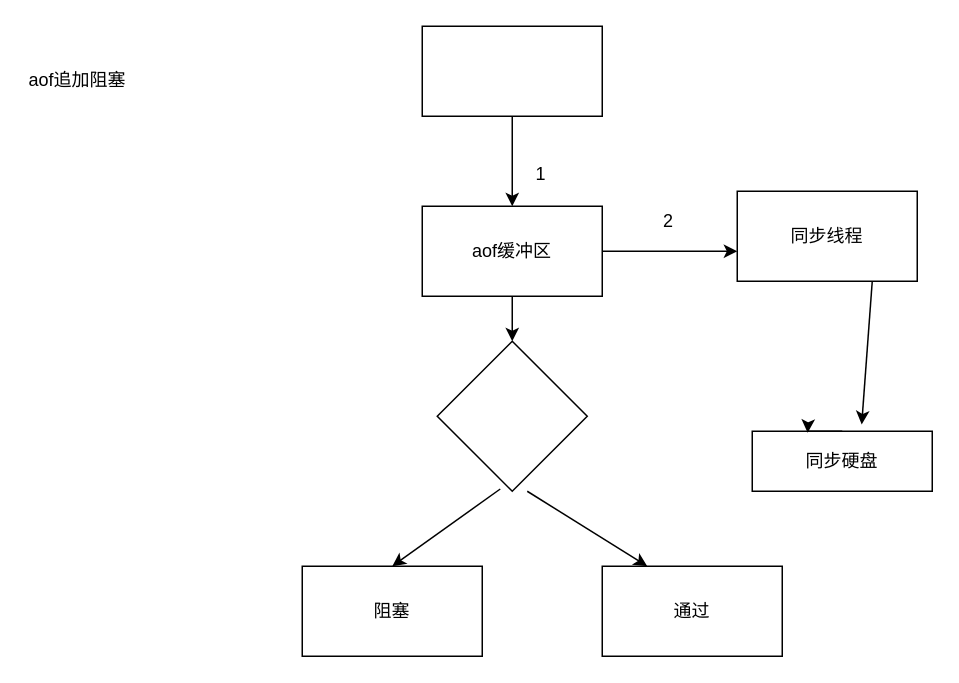
Image size: 959x683. Some labels were removed from this diagram. The box of each missing label's shape, as (x1, y1, x2, y2) in pixels:
主线程: (421, 25, 602, 116)
对比上次sync时间: (436, 340, 587, 491)
